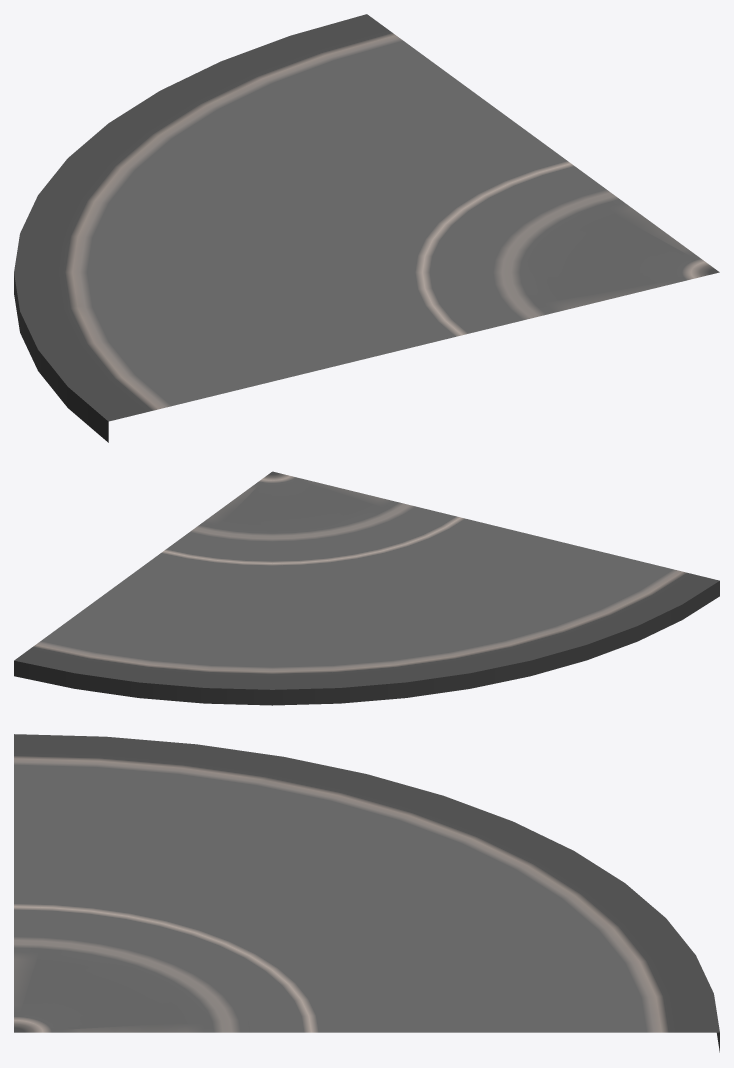
Rendered from S_BottomMetalCornerSquareOuter_1.gltf.
The picture shows the model from 3 angles, top to bottom: view 1: azimuth 30°, elevation 25°; view 2: azimuth 150°, elevation 25°; view 3: azimuth 270°, elevation 25°; orthographic projection. The views are drawn at different scales.
Parts seen in each view (by area): view 1: Plane_115-col; view 2: Plane_115-col; view 3: Plane_115-col.
Part boxes in pixels (x1,y1,x2,y2): Plane_115-col: [14, 14, 719, 442]; Plane_115-col: [14, 471, 719, 705]; Plane_115-col: [14, 734, 719, 1052].
Size of the model in its own units: 0.6 by 0.02 by 0.6.
Materials: 2 (2 with a texture image).
